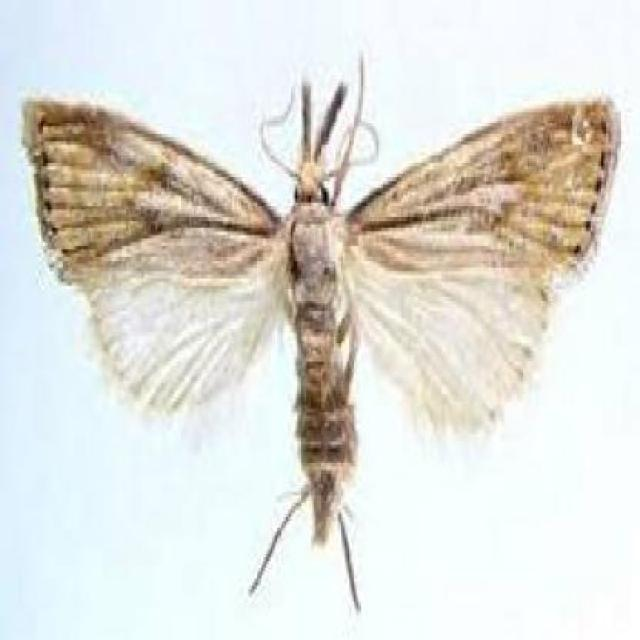stem-borer: (20, 46, 622, 620)
